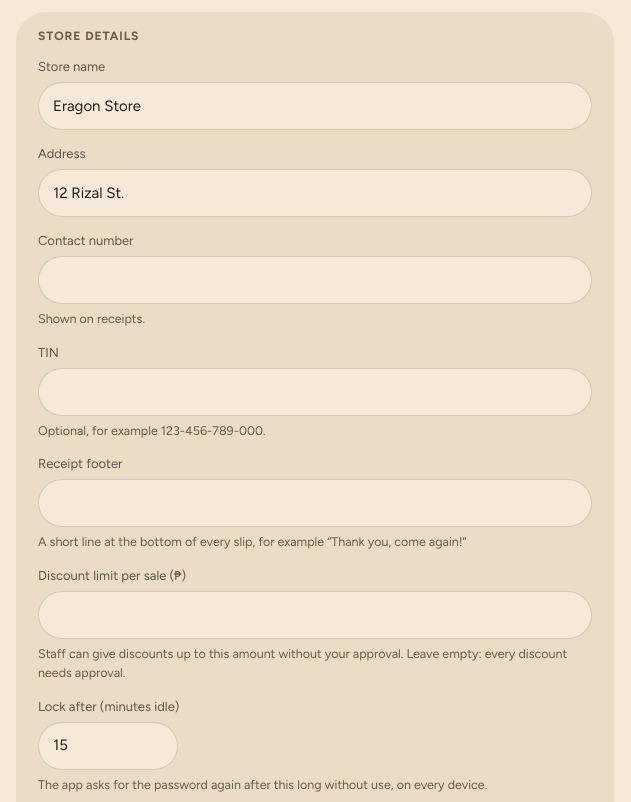
Settings > Store (SYS-01) › shows field errors and sends nothing
Step 1. Clear the field labelled "Store name" → (315, 106), box x1=38 y1=82 x2=592 y2=130
(page scrolled)
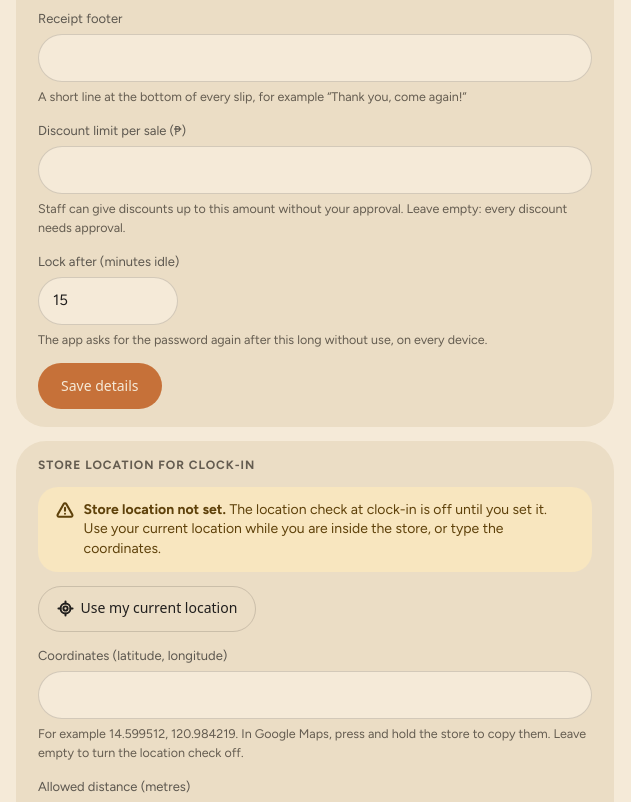
Step 2. Click the button "Save details" → (100, 386), box x1=38 y1=363 x2=162 y2=409
(page scrolled)
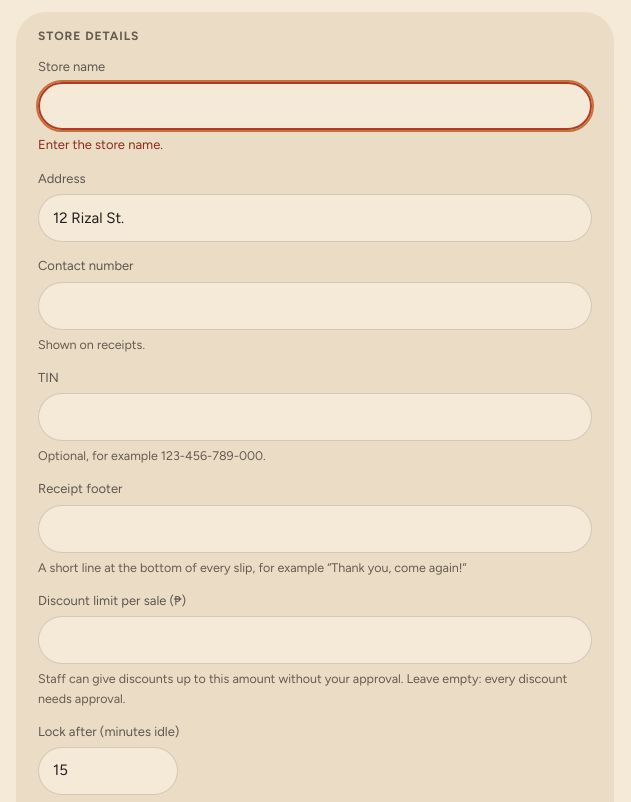
Expected: the text "Enter the store name." is shown, x1=38 y1=137 x2=163 y2=152
